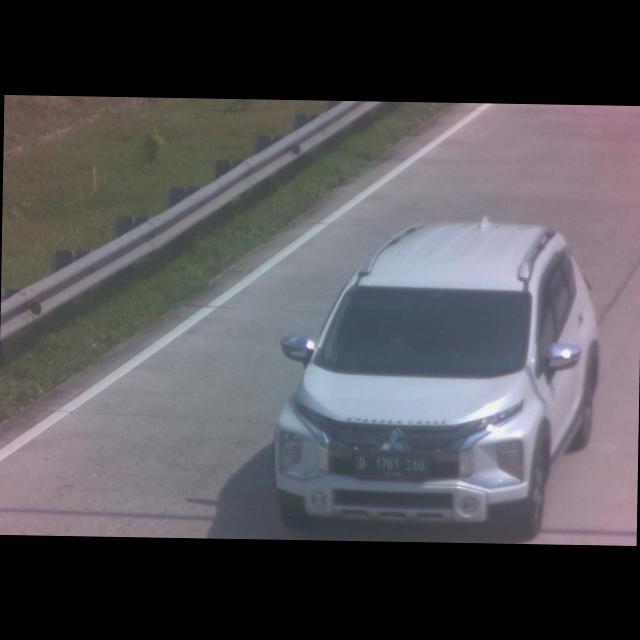plate: (352, 450, 428, 481)
